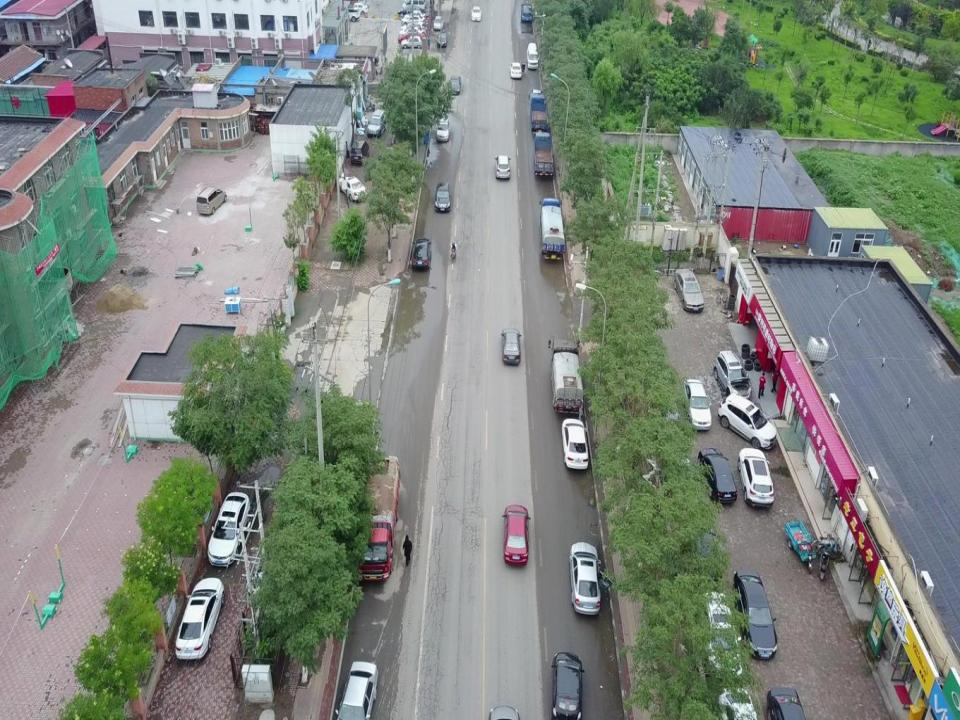car: (730, 569, 778, 661), (675, 489, 723, 581), (175, 576, 226, 661), (700, 590, 744, 679), (568, 540, 613, 618), (717, 392, 777, 450), (206, 492, 251, 568), (333, 659, 379, 720), (550, 651, 585, 720), (697, 446, 737, 506), (736, 447, 774, 508), (713, 350, 752, 401), (501, 505, 531, 566), (560, 417, 590, 471), (682, 378, 712, 430), (765, 686, 808, 720), (717, 687, 758, 720), (674, 268, 704, 312), (499, 328, 522, 365), (338, 175, 367, 202), (410, 237, 432, 271), (366, 108, 389, 138), (434, 180, 451, 212), (494, 154, 511, 180), (338, 5, 361, 22), (436, 118, 451, 142), (399, 26, 424, 40), (397, 31, 423, 44), (396, 5, 423, 17), (400, 35, 422, 49), (510, 61, 526, 80), (400, 22, 424, 34), (449, 74, 461, 96), (400, 15, 425, 25), (348, 2, 368, 14), (404, 10, 426, 20), (530, 88, 542, 105), (471, 5, 483, 22), (436, 31, 448, 48), (433, 15, 444, 30)
truck: (354, 454, 402, 582), (548, 335, 584, 416), (538, 196, 565, 260), (532, 131, 554, 177), (528, 92, 549, 133), (520, 3, 533, 22)
van: (196, 187, 228, 216), (349, 138, 370, 166), (526, 42, 539, 70), (401, 0, 428, 10)
